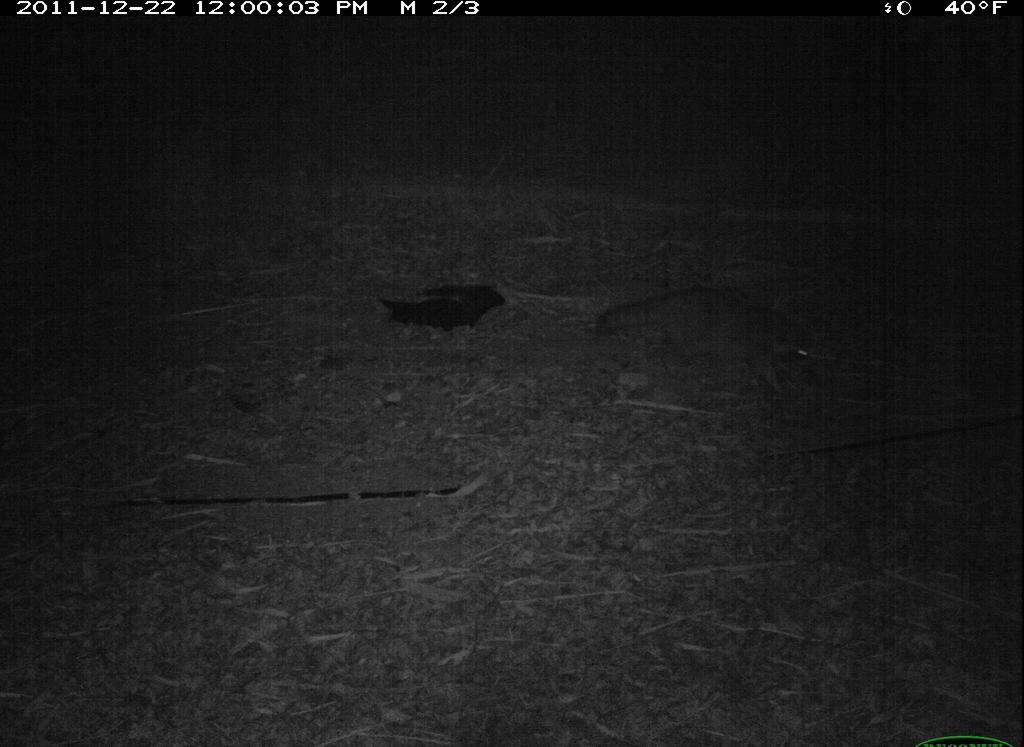raccoon: (570, 271, 835, 401)
